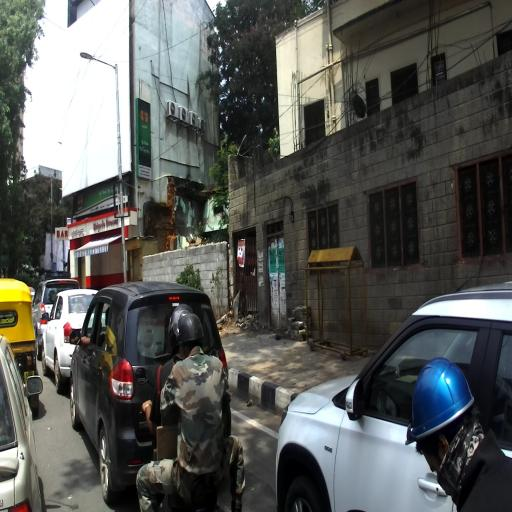street_light_0: (79, 50, 118, 70)
